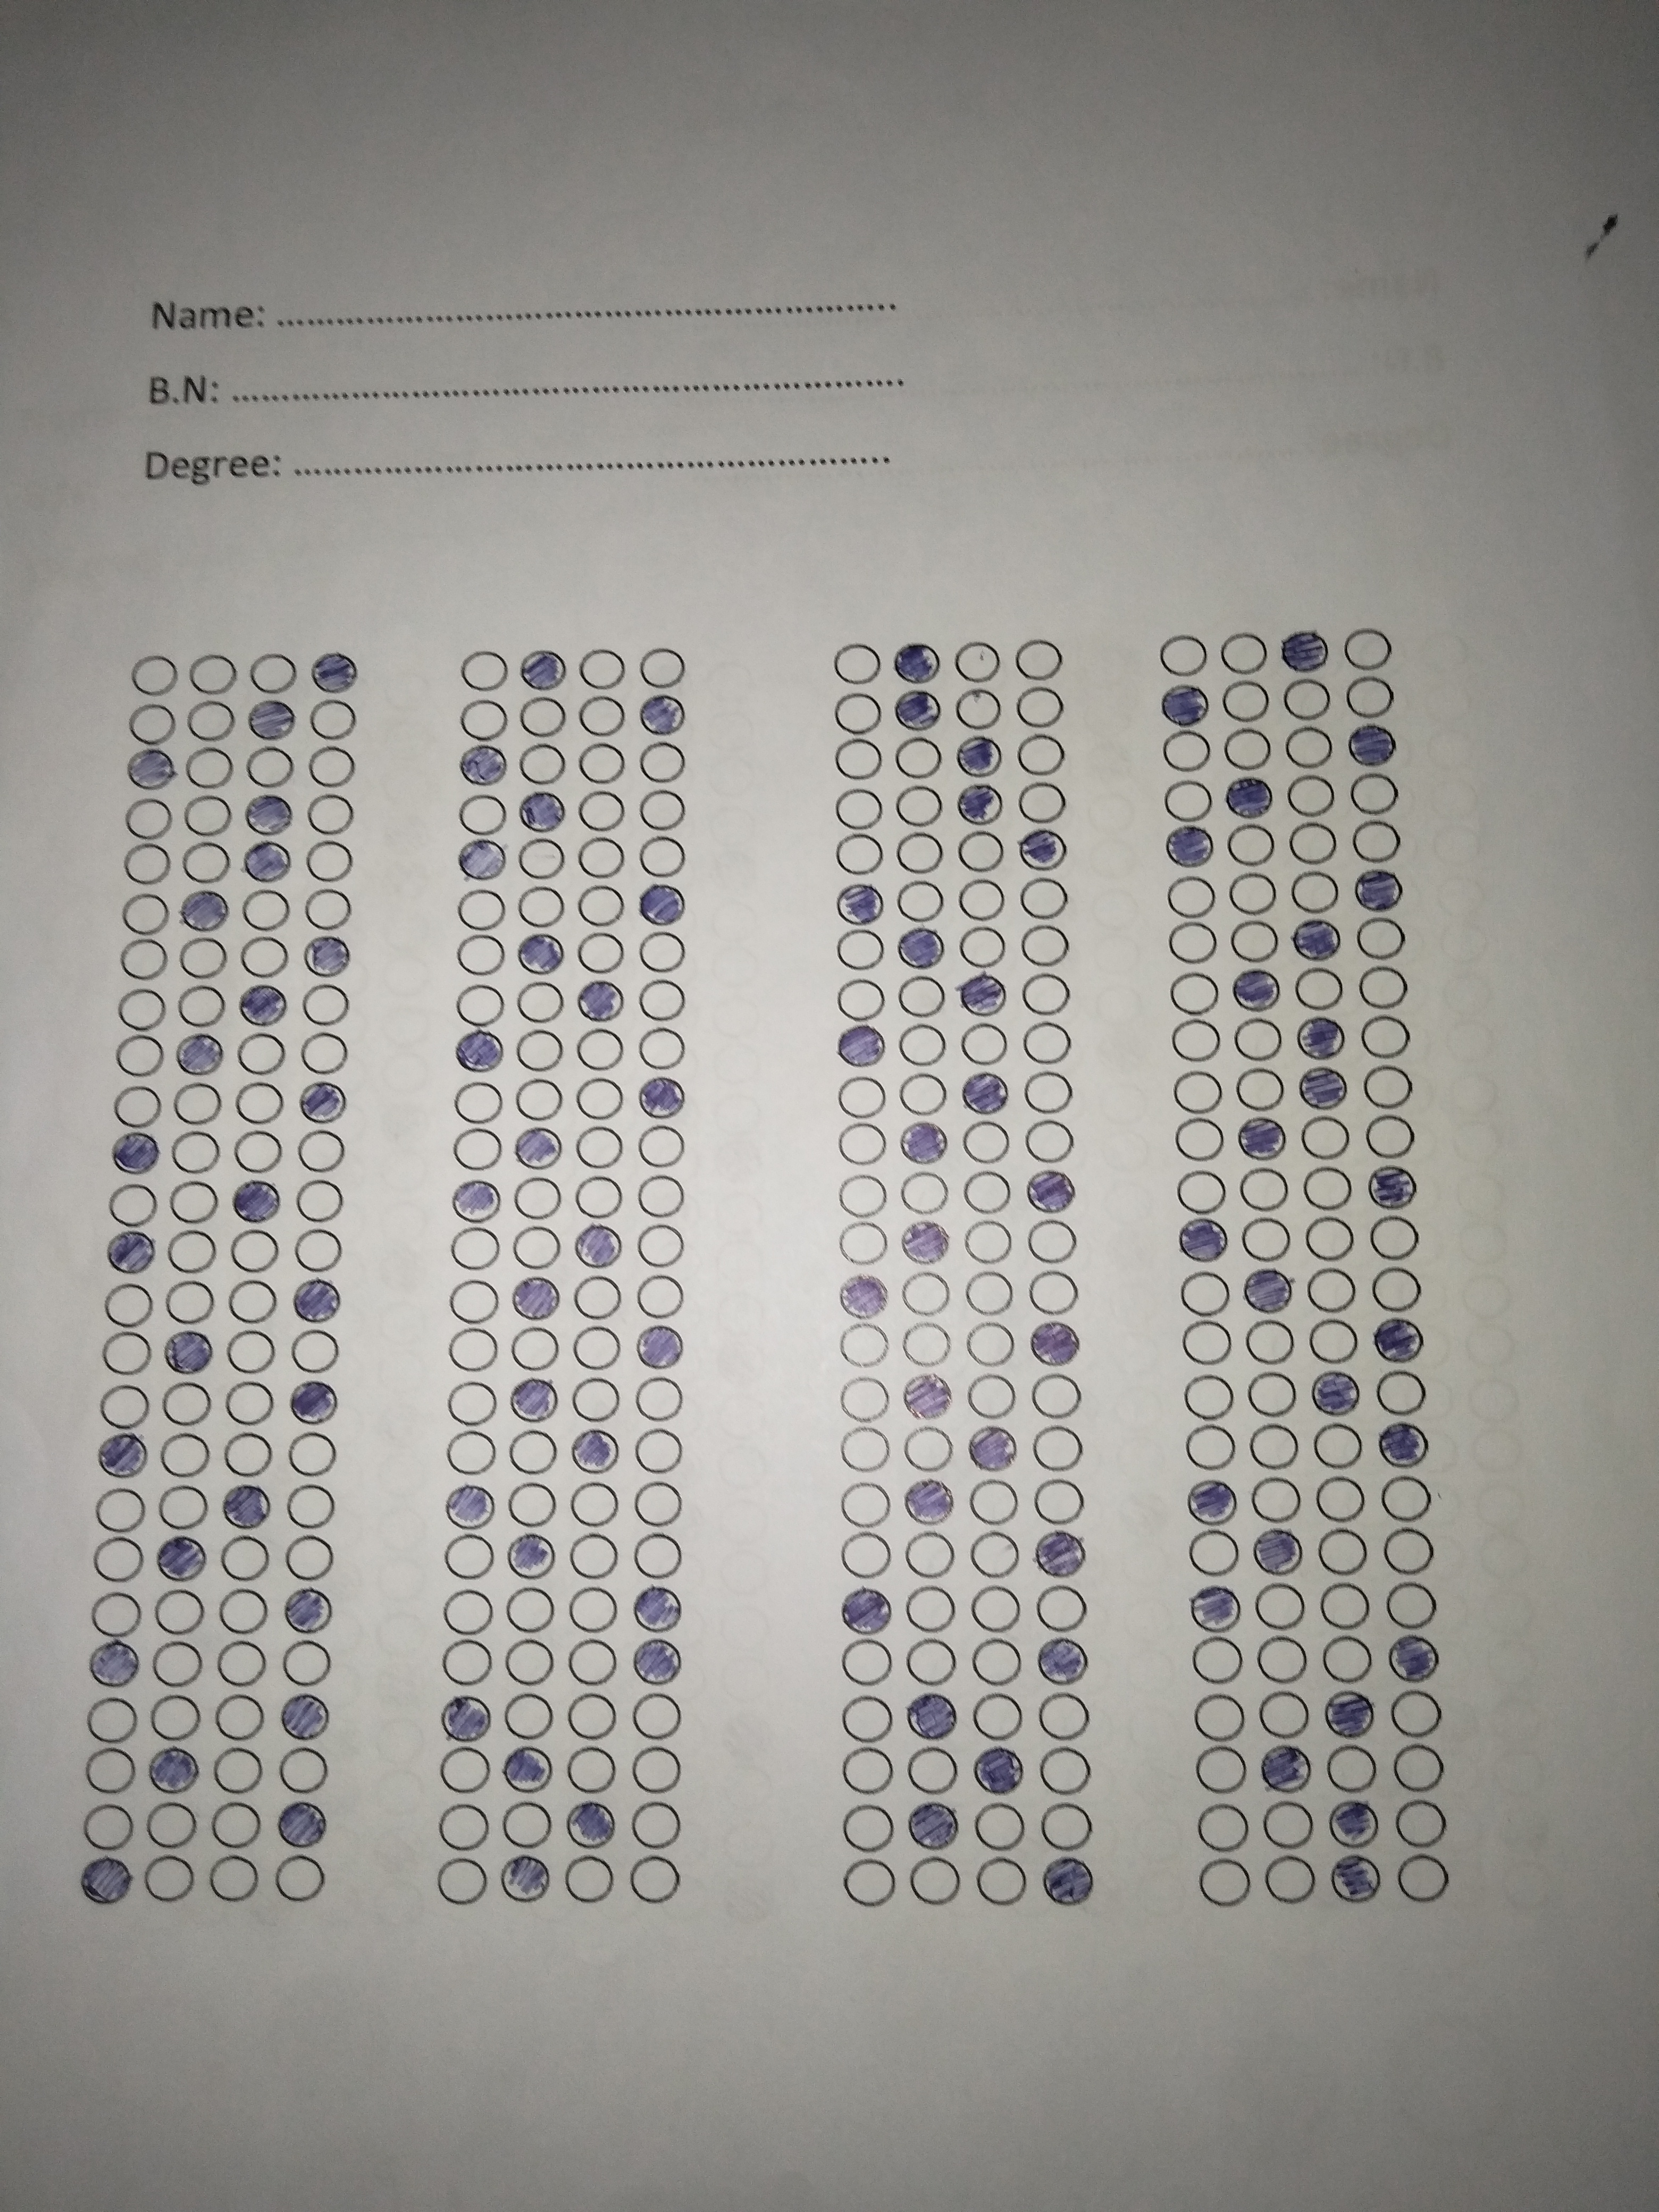not-c: (836, 1857, 901, 1911), (434, 1797, 495, 1853), (1194, 1857, 1256, 1911), (833, 1635, 897, 1688), (439, 1376, 500, 1430), (91, 1331, 159, 1378), (225, 1277, 286, 1329), (967, 1637, 1028, 1689), (1175, 1371, 1237, 1421), (101, 1181, 166, 1230), (94, 1385, 159, 1433), (77, 1803, 141, 1851), (974, 1799, 1030, 1855), (85, 1588, 146, 1639), (80, 1745, 141, 1796), (1028, 1477, 1089, 1527), (836, 1804, 897, 1855), (823, 639, 885, 688), (629, 1691, 685, 1745), (1040, 1801, 1096, 1855), (146, 1691, 204, 1743), (1033, 1583, 1093, 1634), (1035, 1691, 1094, 1742), (1253, 1635, 1312, 1686), (1190, 1745, 1249, 1796), (838, 1695, 899, 1743), (566, 1585, 620, 1639), (504, 1637, 558, 1691), (1389, 1688, 1443, 1742), (1396, 1851, 1450, 1905), (206, 1855, 261, 1907), (840, 1745, 896, 1797), (1317, 1580, 1373, 1632), (1188, 1634, 1244, 1686), (1391, 1742, 1446, 1794), (209, 1799, 267, 1850), (971, 1693, 1028, 1743), (904, 1743, 962, 1794), (1324, 1743, 1382, 1794), (281, 1482, 340, 1531), (437, 1745, 497, 1794), (430, 1857, 490, 1905), (87, 1536, 148, 1583), (437, 1637, 498, 1684), (1192, 1691, 1246, 1743), (127, 650, 183, 700), (498, 1801, 554, 1851), (1039, 1747, 1094, 1797), (972, 1858, 1028, 1909), (1368, 1212, 1424, 1263), (1187, 1527, 1243, 1578), (1263, 1799, 1314, 1855), (103, 1280, 160, 1329), (439, 1587, 497, 1635), (500, 1693, 558, 1742), (563, 1693, 620, 1742), (1012, 636, 1070, 685), (835, 1320, 892, 1369), (1028, 1425, 1086, 1474), (1173, 1116, 1230, 1165), (1305, 1318, 1363, 1367), (446, 1224, 505, 1271), (626, 1747, 685, 1794), (112, 988, 173, 1033), (146, 1799, 199, 1851), (631, 1425, 683, 1477), (566, 1639, 619, 1691), (565, 1745, 617, 1797), (631, 1799, 683, 1851), (908, 1855, 960, 1907), (218, 1587, 272, 1637), (85, 1696, 139, 1747), (631, 1374, 685, 1425), (504, 1585, 558, 1635), (1021, 968, 1072, 1022), (965, 1475, 1019, 1526), (1358, 1012, 1412, 1062), (1314, 1420, 1364, 1474), (1380, 1472, 1431, 1526), (1195, 1801, 1249, 1851), (566, 1531, 622, 1580), (1028, 1372, 1084, 1421), (836, 1480, 892, 1529), (903, 1585, 958, 1634), (1176, 1268, 1232, 1317), (1392, 1799, 1448, 1848), (92, 1486, 150, 1533), (1018, 876, 1075, 923), (962, 1372, 1019, 1420), (1173, 1169, 1230, 1216), (1182, 1423, 1239, 1470), (148, 1641, 207, 1686), (444, 1278, 504, 1324), (835, 1122, 894, 1167), (106, 1085, 167, 1129), (829, 833, 890, 876), (626, 1855, 678, 1905), (1316, 1527, 1368, 1578), (1253, 1581, 1305, 1632), (281, 1639, 335, 1688), (211, 1747, 265, 1796), (505, 1479, 559, 1527), (903, 1531, 957, 1580), (967, 1529, 1021, 1578), (969, 1585, 1023, 1634), (904, 1639, 958, 1688), (1298, 1115, 1352, 1163), (1262, 1855, 1316, 1904), (218, 1534, 274, 1581), (213, 1693, 268, 1740), (277, 1745, 333, 1792), (634, 977, 690, 1024), (505, 1428, 561, 1475), (439, 1531, 495, 1578), (1016, 780, 1072, 827), (962, 1322, 1018, 1369), (1358, 1064, 1413, 1111), (1364, 1113, 1420, 1160), (1319, 1635, 1375, 1683), (288, 1228, 345, 1273), (223, 1327, 281, 1372), (443, 1430, 500, 1475), (831, 928, 889, 974), (1026, 1270, 1084, 1315), (1155, 634, 1213, 679), (1166, 1019, 1223, 1064), (1168, 1069, 1225, 1115), (112, 1035, 171, 1078), (633, 1028, 692, 1071), (951, 878, 1011, 921), (516, 979, 566, 1029), (237, 1029, 289, 1078), (295, 1176, 347, 1224), (563, 1855, 615, 1904), (829, 979, 890, 1021), (962, 1118, 1014, 1167), (899, 1270, 951, 1318), (1258, 1689, 1310, 1738), (300, 982, 354, 1029), (160, 1381, 214, 1428), (223, 1379, 277, 1426), (159, 1432, 213, 1479), (145, 1855, 199, 1902), (458, 648, 512, 695), (570, 1378, 624, 1425), (631, 1531, 685, 1578), (897, 974, 951, 1021), (960, 1271, 1014, 1318), (903, 1322, 957, 1369), (836, 1426, 890, 1474), (1303, 1216, 1358, 1263), (1370, 1266, 1424, 1313), (1248, 1475, 1302, 1522), (1314, 1477, 1368, 1524), (1385, 1581, 1439, 1629), (246, 650, 301, 695), (181, 841, 237, 887), (450, 982, 505, 1028), (450, 1125, 505, 1170), (572, 1324, 627, 1369), (631, 1480, 687, 1526), (901, 1426, 957, 1472), (1216, 679, 1272, 725), (1162, 876, 1218, 921), (1166, 972, 1222, 1017), (124, 702, 181, 745), (450, 888, 507, 932), (829, 787, 887, 831), (835, 1076, 892, 1120), (1018, 1071, 1075, 1115), (835, 1174, 892, 1217), (1159, 779, 1216, 822), (1178, 1322, 1236, 1366), (164, 1278, 214, 1327), (275, 1851, 324, 1902), (570, 1479, 620, 1527), (964, 1219, 1014, 1268), (1288, 819, 1337, 869), (1384, 1527, 1434, 1576), (186, 650, 239, 697), (120, 937, 173, 984), (636, 1123, 688, 1170), (573, 1273, 626, 1320), (1026, 1217, 1079, 1264), (840, 1531, 892, 1578), (1218, 632, 1270, 679), (1229, 920, 1281, 967), (1237, 1165, 1290, 1212), (1307, 1268, 1359, 1315), (1244, 1317, 1297, 1364), (1248, 1425, 1300, 1472), (120, 796, 174, 841), (239, 887, 293, 932), (178, 984, 232, 1029), (282, 1536, 336, 1581), (153, 1588, 207, 1634), (633, 1223, 687, 1268), (894, 786, 948, 831), (955, 831, 1009, 876), (1018, 925, 1072, 970), (1019, 1021, 1073, 1066), (1340, 627, 1394, 672), (1234, 1066, 1288, 1111), (1244, 1372, 1298, 1418), (298, 1031, 354, 1075), (223, 1228, 279, 1271), (220, 1432, 275, 1475), (446, 1327, 502, 1371), (507, 1327, 563, 1371), (831, 691, 887, 735), (833, 737, 889, 780), (838, 1376, 894, 1420), (1356, 965, 1412, 1008), (1302, 1167, 1358, 1211), (455, 698, 512, 740), (634, 932, 692, 974), (894, 737, 943, 786), (964, 1169, 1012, 1217), (1286, 723, 1335, 772), (1227, 820, 1276, 869), (1234, 1015, 1283, 1064), (234, 1078, 284, 1125), (291, 1327, 342, 1374), (159, 1486, 209, 1533), (634, 1172, 685, 1219), (953, 637, 1004, 685), (1377, 1369, 1427, 1416), (296, 1127, 349, 1172), (577, 789, 629, 834), (575, 1026, 627, 1071), (453, 1080, 505, 1125), (573, 1076, 626, 1122), (572, 1125, 624, 1170), (1012, 685, 1065, 730), (1014, 732, 1066, 777), (894, 833, 946, 878), (897, 1024, 950, 1069), (1283, 676, 1335, 721), (303, 887, 357, 930), (164, 1230, 218, 1273), (638, 646, 692, 690), (575, 740, 629, 784), (897, 1170, 951, 1214), (838, 1221, 892, 1264), (1220, 726, 1274, 770), (1293, 968, 1347, 1012), (118, 894, 174, 935), (171, 1132, 227, 1174), (1021, 1120, 1077, 1162), (1342, 676, 1398, 718), (1352, 819, 1401, 866), (178, 937, 228, 982), (173, 1080, 223, 1125), (216, 1641, 267, 1686), (512, 1176, 563, 1221), (636, 1273, 687, 1318), (1288, 871, 1338, 916), (183, 745, 235, 789), (234, 1130, 286, 1174), (577, 695, 629, 738), (957, 1022, 1009, 1066), (1159, 730, 1211, 773), (1284, 773, 1337, 817), (305, 698, 359, 740), (305, 745, 359, 787), (307, 792, 361, 834), (453, 935, 507, 977), (514, 1029, 568, 1071), (951, 688, 1006, 730), (640, 738, 687, 786), (169, 1181, 218, 1226), (519, 742, 570, 786), (638, 789, 688, 833), (514, 1078, 565, 1122), (573, 1174, 624, 1217), (1229, 873, 1279, 916), (1356, 918, 1406, 961), (1241, 1217, 1291, 1261), (246, 745, 298, 787), (183, 796, 235, 838), (240, 937, 293, 979), (519, 697, 572, 738), (455, 794, 507, 836), (516, 885, 568, 927), (894, 881, 946, 923), (185, 700, 239, 740), (303, 840, 352, 883), (579, 648, 627, 691), (577, 836, 626, 880), (512, 1224, 561, 1268), (899, 1073, 948, 1116), (516, 836, 566, 878), (1166, 923, 1218, 963), (289, 1432, 336, 1475), (579, 885, 626, 928), (579, 932, 626, 975), (958, 925, 1006, 968), (640, 836, 688, 878), (1351, 773, 1399, 815), (122, 843, 173, 883)
taken-c: (1324, 1796, 1384, 1850), (1385, 1630, 1443, 1684), (1040, 1855, 1096, 1909), (498, 1850, 552, 1904), (901, 1474, 955, 1527), (1187, 1474, 1241, 1527), (279, 1689, 335, 1742), (146, 1743, 202, 1796), (78, 1853, 134, 1905), (971, 1743, 1026, 1796), (1258, 1742, 1314, 1794), (1328, 1851, 1384, 1904), (275, 1796, 329, 1848), (1033, 1527, 1087, 1580), (840, 1583, 892, 1637), (1037, 1634, 1091, 1686), (908, 1797, 960, 1851), (1323, 1686, 1375, 1740), (108, 1129, 164, 1179), (89, 1639, 145, 1689), (1371, 1315, 1427, 1366), (1375, 1420, 1431, 1470), (155, 1531, 207, 1583), (901, 1371, 953, 1423), (906, 1689, 958, 1742), (631, 1583, 685, 1634), (1366, 1162, 1420, 1212), (1310, 1367, 1364, 1418), (1253, 1526, 1307, 1576), (1190, 1583, 1244, 1634), (1236, 1113, 1291, 1162), (1175, 1214, 1232, 1261), (441, 1693, 493, 1743), (965, 1421, 1018, 1472), (1241, 1266, 1293, 1317), (282, 1585, 336, 1634), (833, 1021, 887, 1069), (242, 836, 293, 887), (633, 1635, 683, 1686), (570, 1425, 620, 1475), (105, 1228, 157, 1277), (566, 1801, 619, 1850), (507, 1529, 556, 1581), (443, 1482, 495, 1531), (572, 1221, 624, 1270), (958, 1069, 1011, 1118), (1028, 1318, 1080, 1367), (500, 1747, 554, 1794), (176, 1028, 225, 1078), (291, 1275, 342, 1324), (164, 1327, 214, 1376), (509, 1376, 559, 1425), (458, 740, 509, 789), (955, 780, 1006, 829), (1298, 1062, 1349, 1111), (237, 982, 289, 1029), (450, 1177, 502, 1224), (575, 977, 627, 1024), (890, 686, 943, 733), (897, 1118, 950, 1165), (1023, 1167, 1075, 1214), (836, 1271, 889, 1318), (1166, 822, 1218, 869), (1230, 965, 1283, 1012), (1297, 1014, 1349, 1061), (98, 1433, 152, 1479), (1161, 679, 1209, 728), (179, 888, 230, 935), (298, 1078, 349, 1125), (232, 1177, 282, 1224), (289, 1378, 340, 1425), (221, 1482, 272, 1529), (634, 1324, 685, 1371), (455, 1028, 505, 1075), (516, 930, 566, 977), (518, 646, 568, 693), (892, 639, 943, 686), (896, 925, 948, 970), (1347, 723, 1399, 768), (1352, 867, 1405, 913), (1291, 916, 1344, 961), (310, 648, 359, 695), (303, 930, 350, 979), (638, 880, 687, 927), (1019, 826, 1068, 873), (1281, 627, 1330, 674), (246, 697, 296, 742), (512, 1275, 563, 1320), (638, 1076, 688, 1122), (457, 836, 507, 881), (901, 1219, 951, 1264), (516, 1123, 563, 1170), (518, 789, 566, 834), (640, 691, 688, 737), (955, 733, 1004, 779), (836, 881, 885, 927), (958, 974, 1007, 1019), (1225, 773, 1274, 819), (244, 794, 295, 838), (127, 747, 176, 791)
